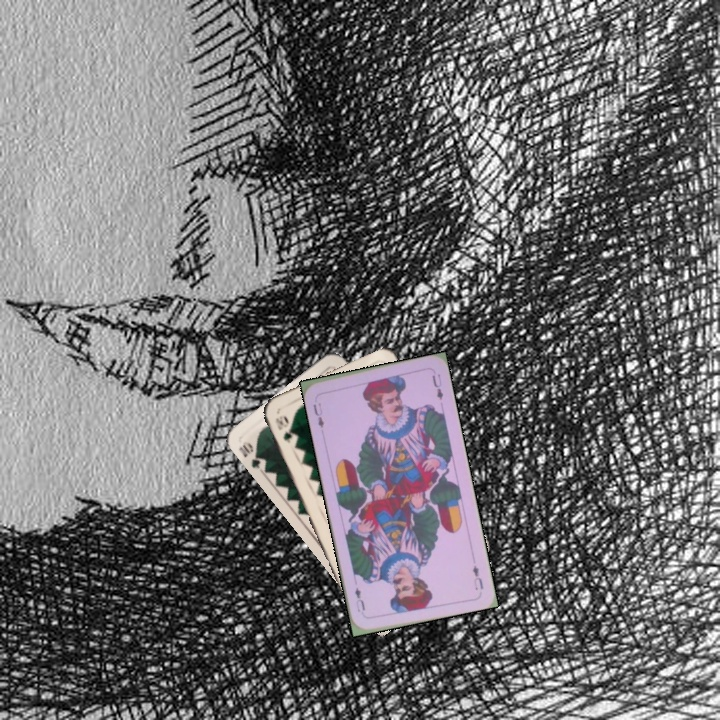EU: (309, 399, 327, 431), (468, 561, 486, 593)
G10: (234, 437, 266, 471), (271, 411, 295, 446)
